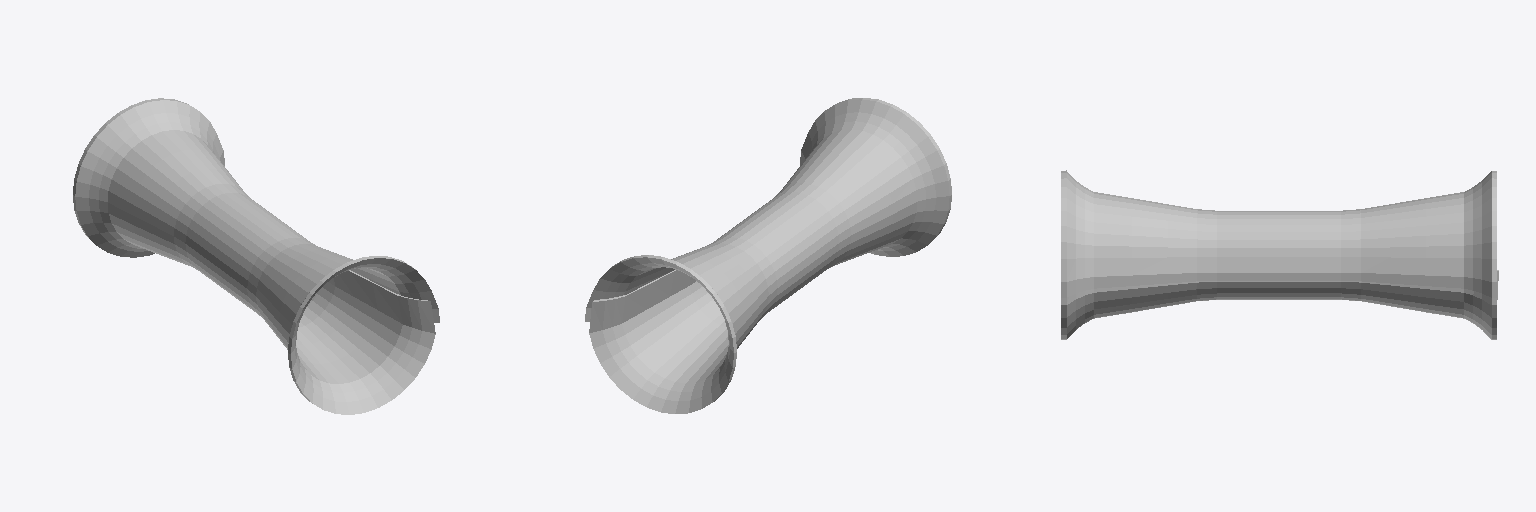
File: parchemin.obj
3 renders of one model, left to right at view 1: azimuth 30°, elevation 25°; view 2: azimuth 150°, elevation 25°; view 3: azimuth 270°, elevation 25°, orthographic.
Parts seen in each view (by area): view 1: Cylindre; view 2: Cylindre; view 3: Cylindre.
Part boxes in pixels (x1,y1,x2,y2): Cylindre: (73,98,439,414); Cylindre: (585,98,951,413); Cylindre: (1061,170,1498,339).
Bounding box in the file's own units: 0.0488 × 0.0478 × 0.1234.